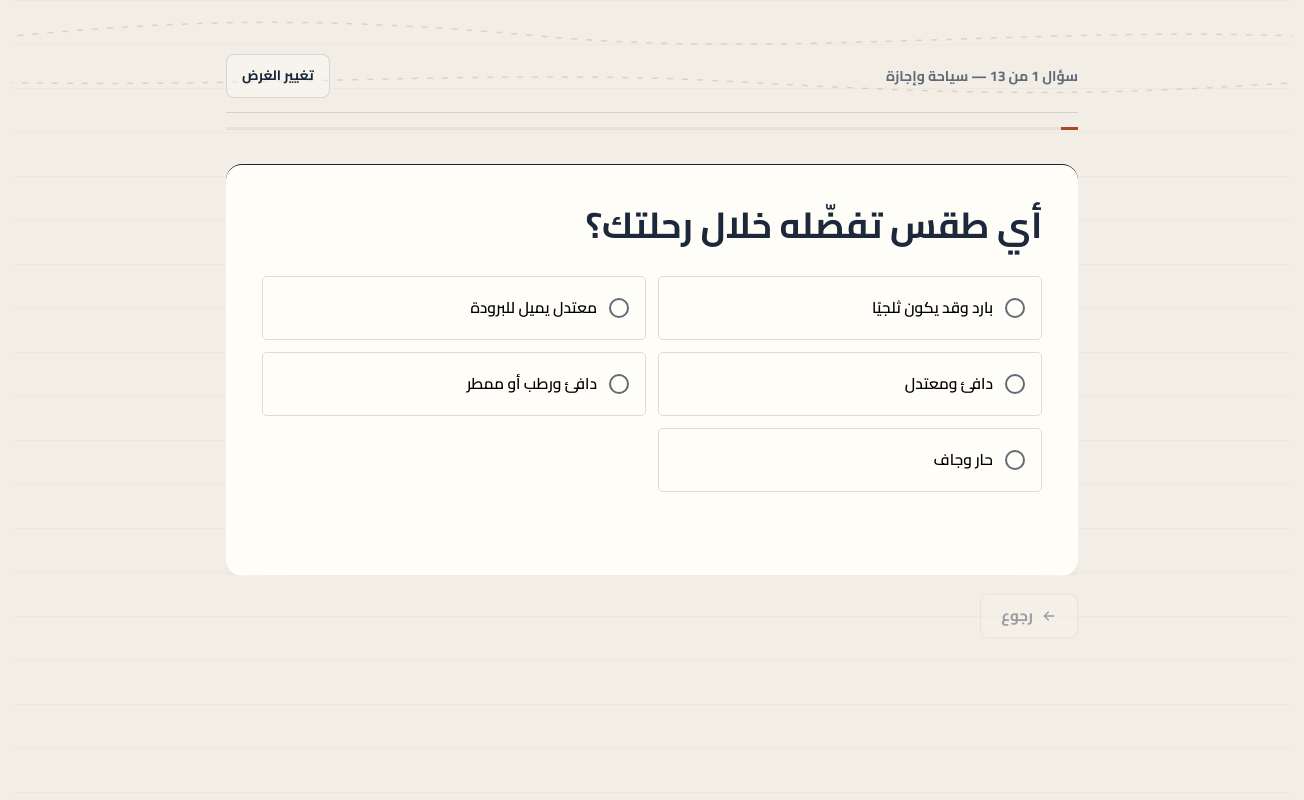
Test: deterministic questionnaire product flow › offers results or more questions after five answers
Click the radio button labelled "بارد وقد يكون ثلجيًا".
click(932, 308)  # box [658,276,1042,340]
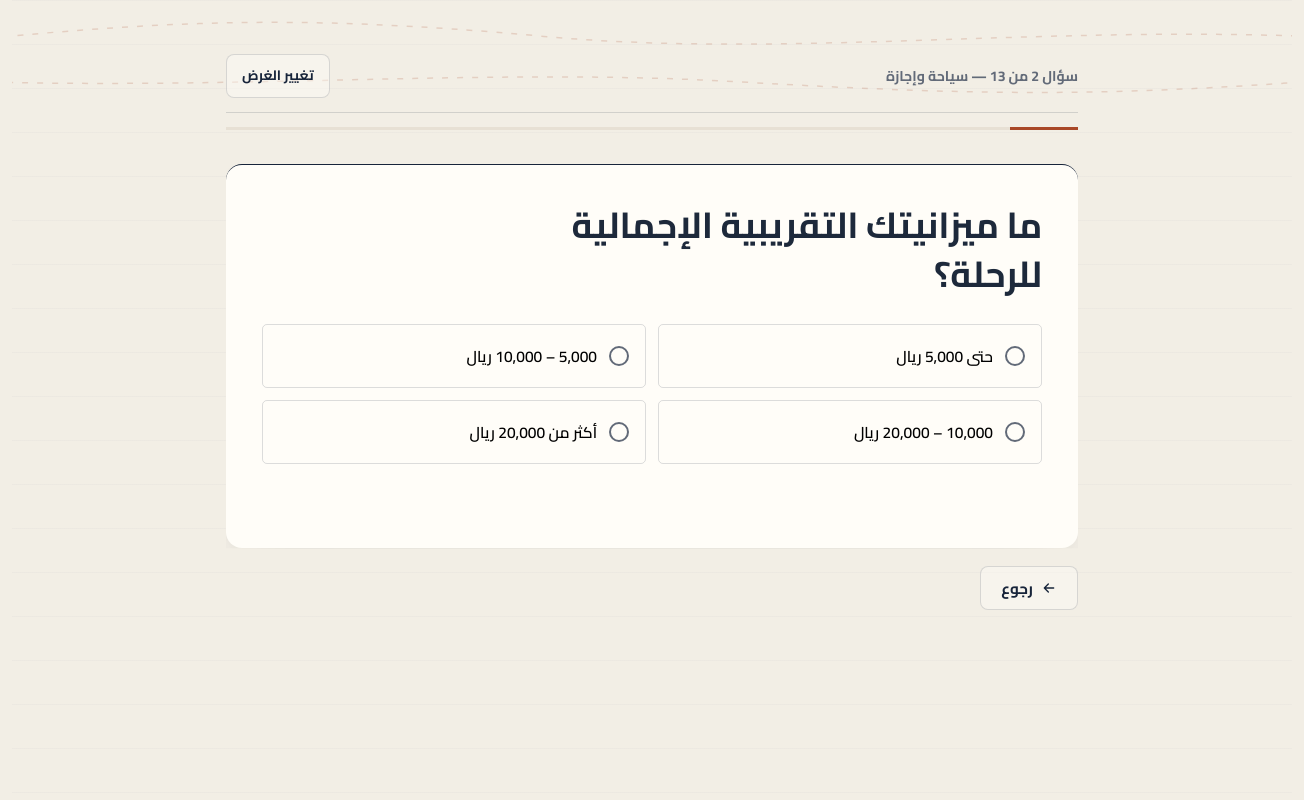
Click the radio button labelled "حتى 5,000 ريال".
click(944, 356)  # box [658,324,1042,388]
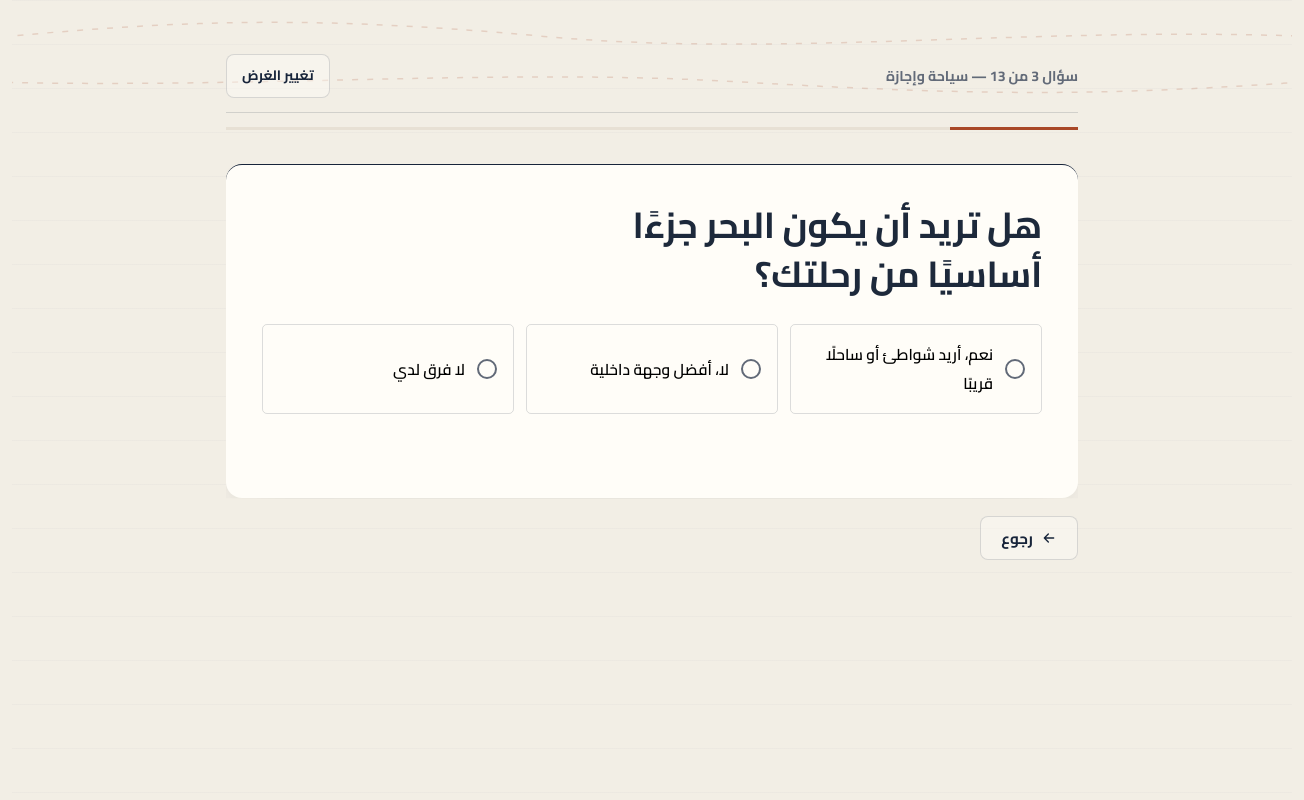
Click the radio button labelled "نعم، أريد شواطئ أو ساحلًا قريبًا".
click(916, 369)  # box [790,324,1042,414]
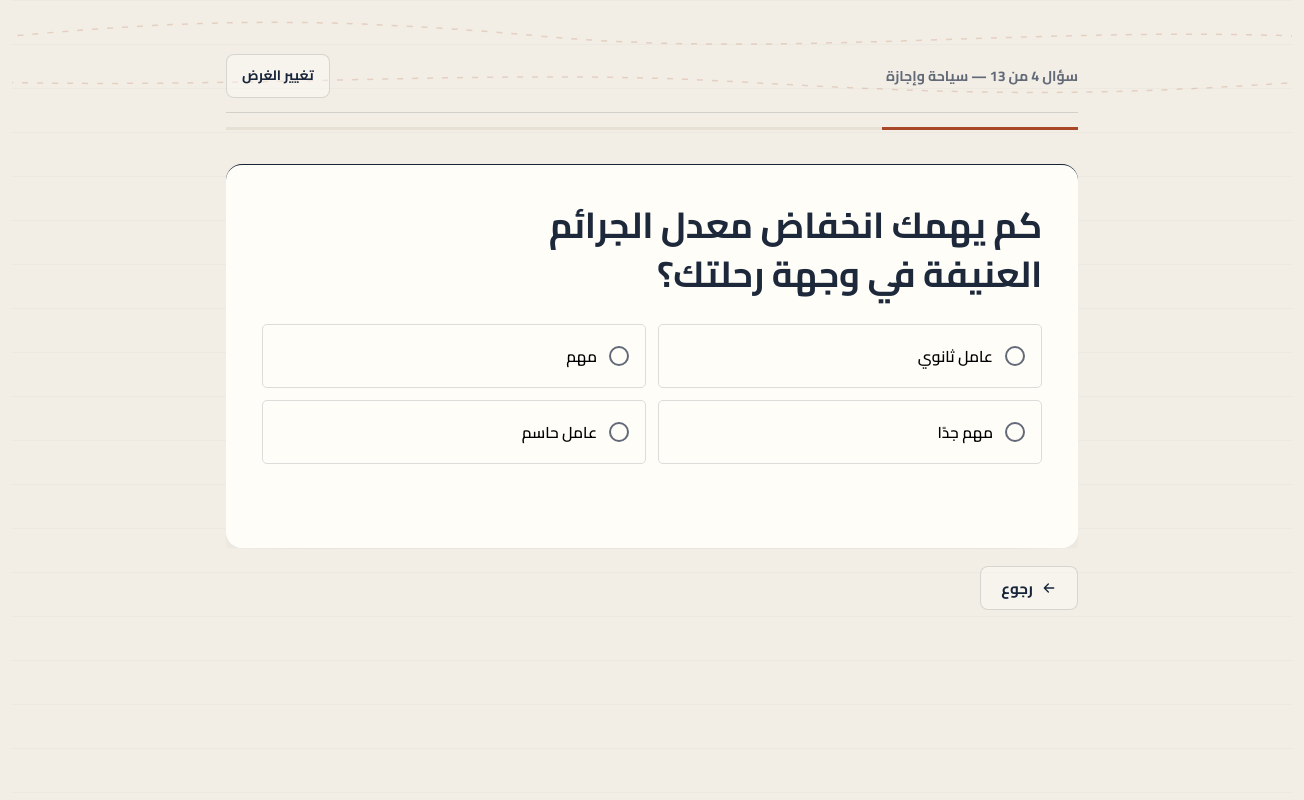
Click the radio button labelled "عامل ثانوي".
click(955, 356)  # box [658,324,1042,388]
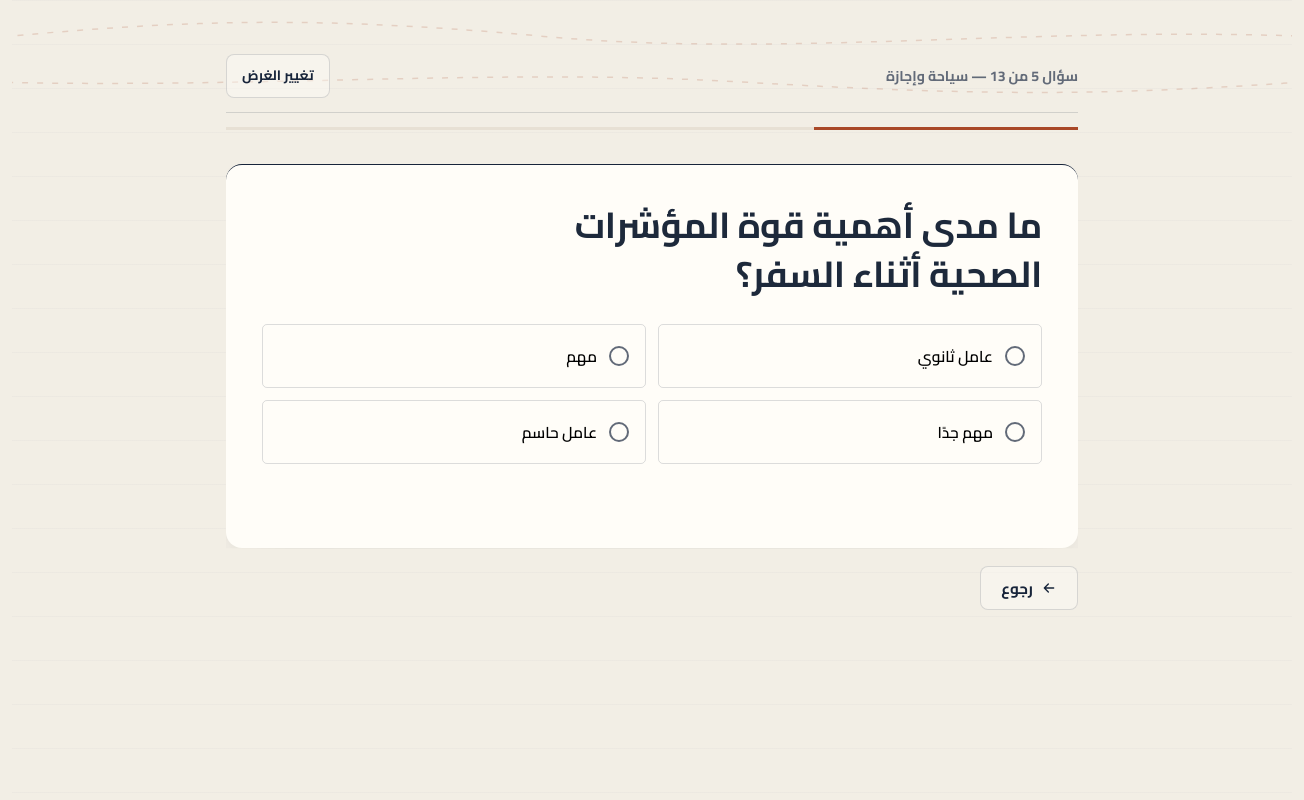
Click the radio button labelled "عامل ثانوي".
click(955, 356)  # box [658,324,1042,388]
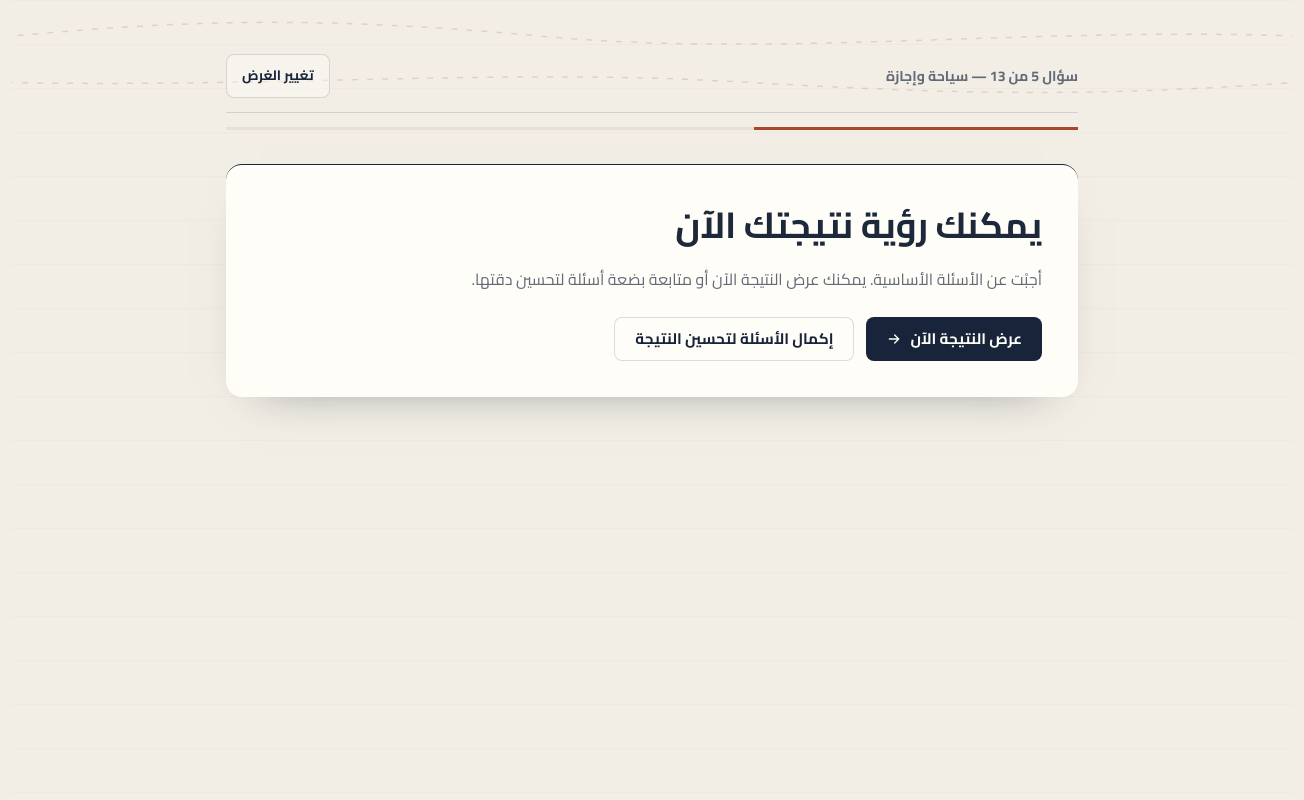
Expected: the button "عرض النتيجة الآن" is shown, [866,317,1042,361]
Expected: the button "إكمال الأسئلة لتحسين النتيجة" is shown, [614,317,854,361]
